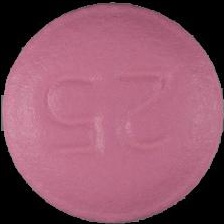60505-3674: (0, 0, 224, 224)
